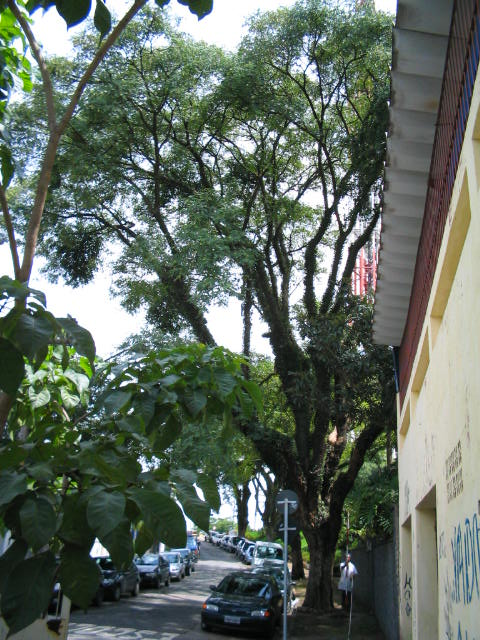crown: (25, 7, 400, 426)
stem: (300, 527, 343, 614)
stick: (339, 509, 356, 615)
tree: (22, 6, 402, 617)
